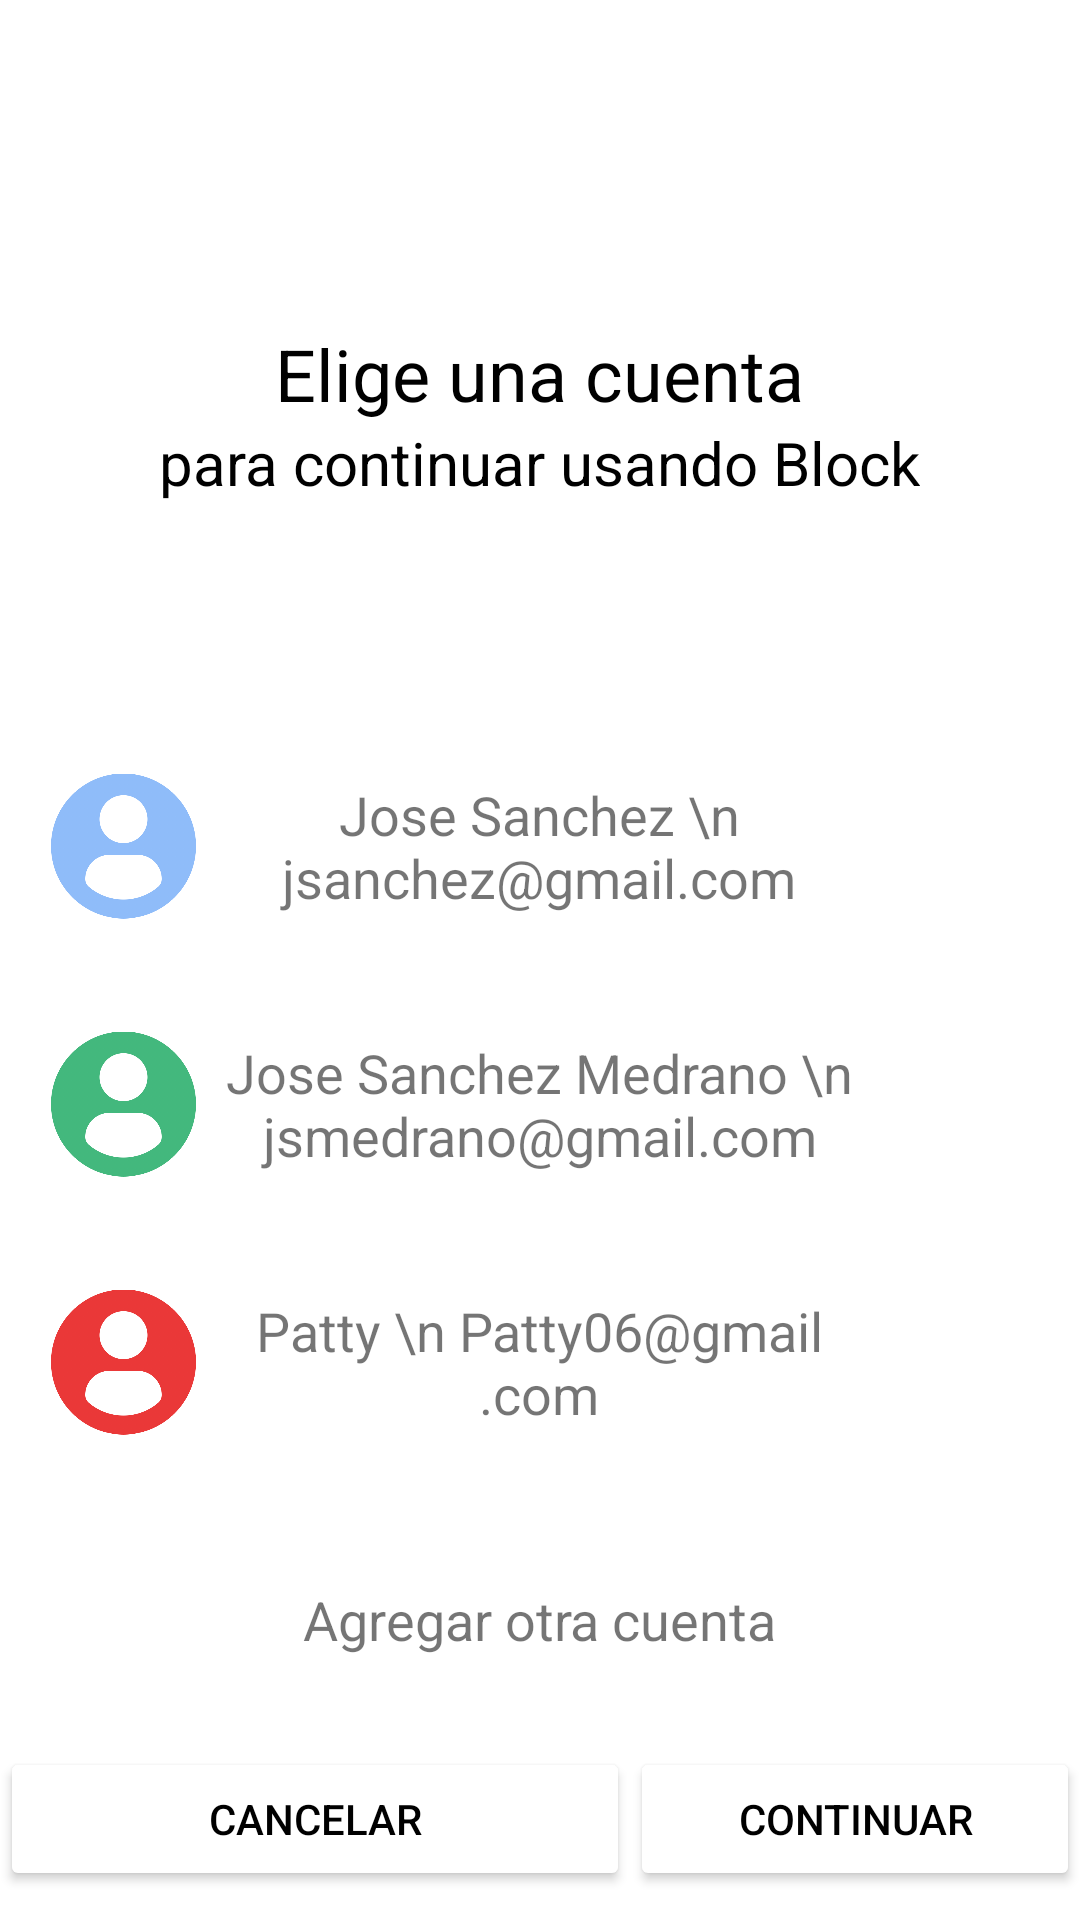

Icon bounding boxes for this 1080*1920 phone screenshot, format {"left": x1, "top": y1, "right": x2, "bottom": y2}:
usuariodeperfil azul: {"left": 51, "top": 774, "right": 196, "bottom": 919}
usuariodeperfil rojo: {"left": 51, "top": 1290, "right": 196, "bottom": 1435}
usuariodeperfil verde: {"left": 51, "top": 1032, "right": 196, "bottom": 1177}
